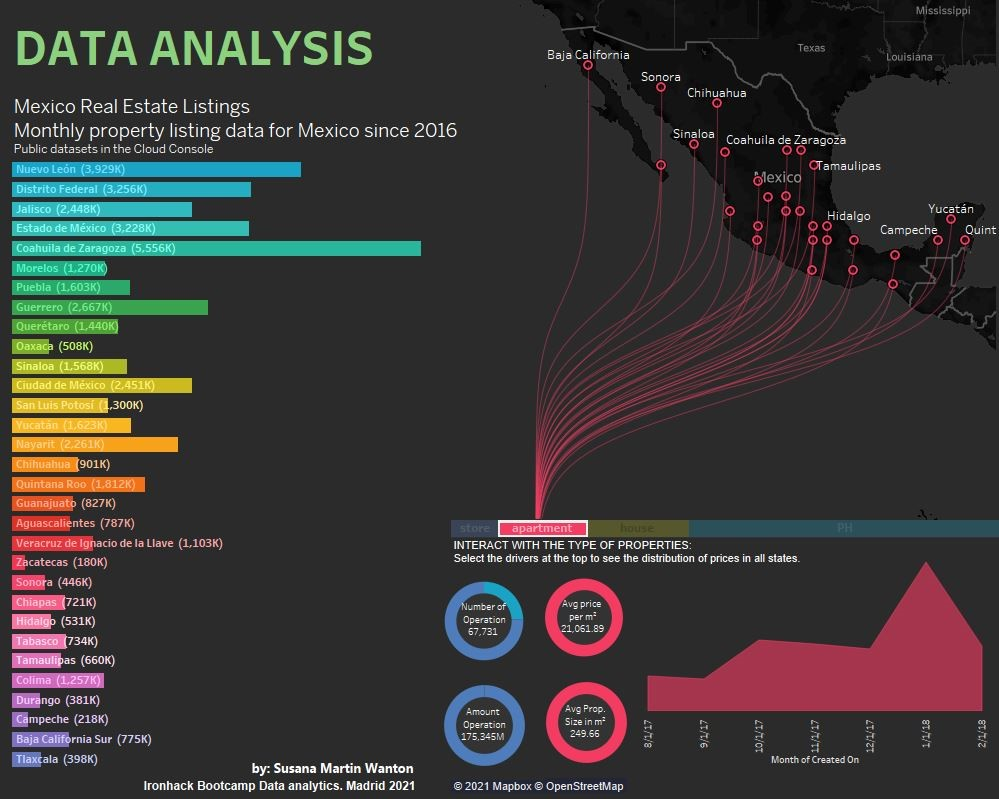

This screenshot's page, from the dashboard's own definition file:
{"tool":"tableau","page":{"name":"Dashboard 1","canvas":[1000,800],"ordinal":0},"visuals":[{"type":"worksheet","box":[11,6,539,159]},{"type":"worksheet","title":"Estados","mark":"Automatic","rows":["state_name"],"cols":["price"],"box":[12,160,429,609]},{"type":"worksheet","box":[451,537,541,30]},{"type":"worksheet","title":"Operation/date","mark":"Area","rows":["operation"],"cols":["created_on"],"box":[631,555,368,218]},{"type":"worksheet","title":"KPI 1 (3)","mark":"Pie","cols":["Calculation_804455526848184341","Calculation_804455526848446487"],"box":[525,565,118,105]},{"type":"worksheet","title":"KPI 1","mark":"Pie","cols":["Calculation_804455526848184341","Calculation_804455526848446487"],"box":[429,568,110,106]},{"type":"worksheet","title":"KPI 1 (4)","mark":"Pie","cols":["Calculation_804455526848184341","Calculation_804455526848446487"],"box":[531,668,111,109]},{"type":"worksheet","title":"KPI 1 (2)","mark":"Pie","cols":["Calculation_804455526848184341","Calculation_804455526848446487"],"box":[423,671,123,109]},{"type":"worksheet","box":[249,758,257,26]},{"type":"worksheet","box":[141,775,350,22]}]}

Visuals, with their boxes in screenshot pixels (x1, y1, x2, y2), scaled from the page's 1000x800 canvas onto the 999x799 screenshot:
worksheet: [left=11, top=6, right=549, bottom=165]
"Estados" worksheet: [left=12, top=160, right=441, bottom=768]
worksheet: [left=451, top=536, right=991, bottom=566]
"Operation/date" worksheet (Area marks): [left=630, top=554, right=998, bottom=772]
"KPI 1 (3)" worksheet (Pie marks): [left=524, top=564, right=642, bottom=669]
"KPI 1" worksheet (Pie marks): [left=429, top=567, right=538, bottom=673]
"KPI 1 (4)" worksheet (Pie marks): [left=530, top=667, right=641, bottom=776]
"KPI 1 (2)" worksheet (Pie marks): [left=423, top=670, right=545, bottom=779]
worksheet: [left=249, top=757, right=505, bottom=783]
worksheet: [left=141, top=774, right=491, bottom=796]
